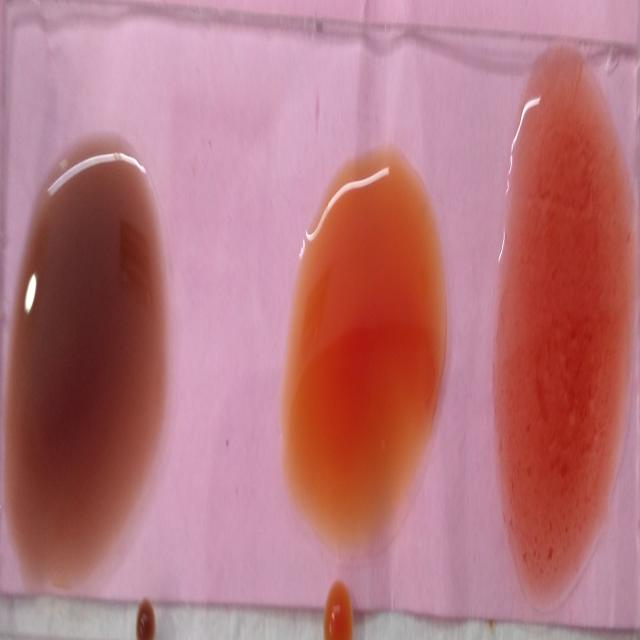D: (498, 81, 626, 613)
